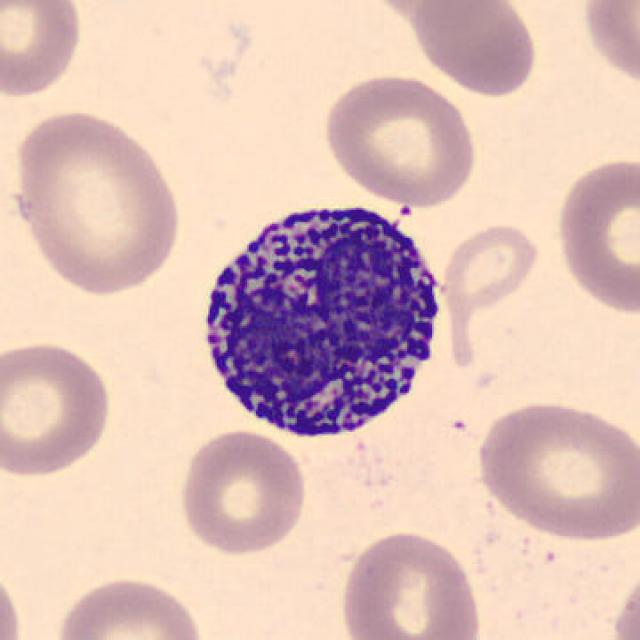Basophil: (185, 185, 457, 451)
RBC: (7, 104, 189, 298), (471, 395, 637, 543), (318, 69, 482, 210), (174, 427, 311, 557), (336, 525, 485, 640), (0, 335, 116, 481), (437, 217, 546, 360), (551, 152, 638, 319), (409, 0, 542, 99), (52, 571, 208, 640), (0, 0, 87, 102), (578, 0, 640, 92), (356, 0, 500, 21), (610, 562, 640, 640), (0, 559, 25, 640)
